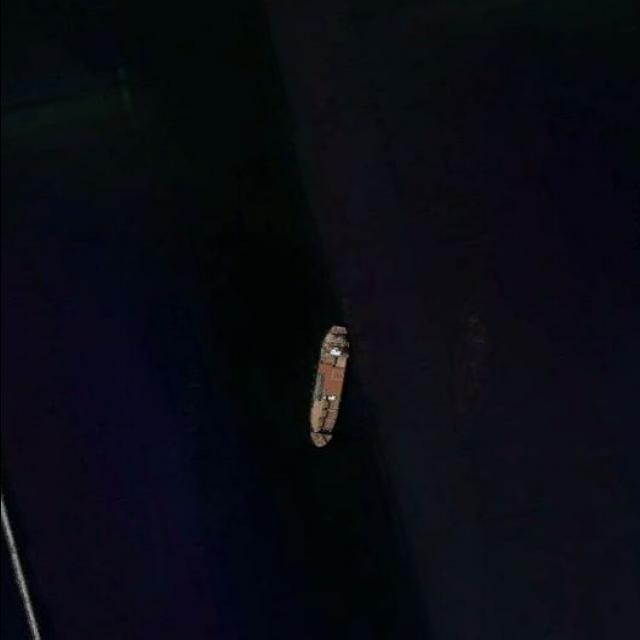ship: (303, 324, 354, 452)
